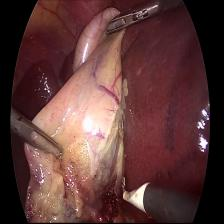Grasper: (16, 119, 62, 164), (102, 0, 161, 35)
Hook: (121, 167, 147, 219)
